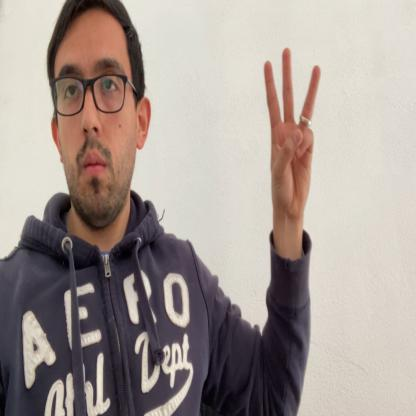W: (264, 46, 321, 227)
